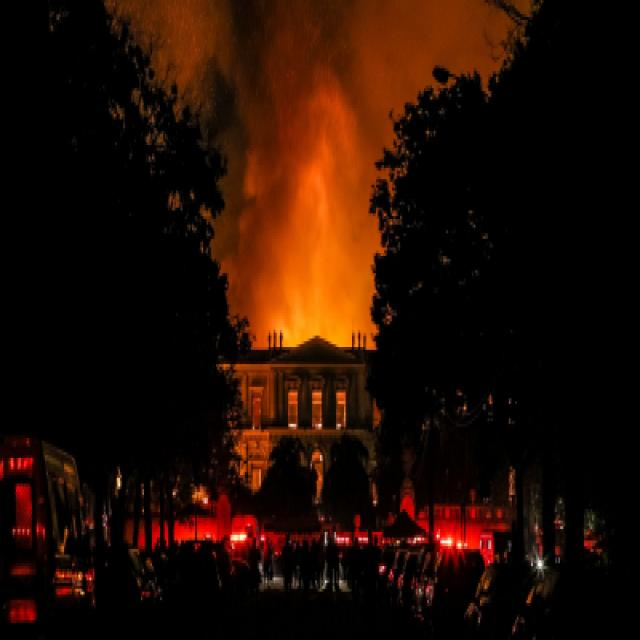Smoke: (180, 14, 456, 328)
